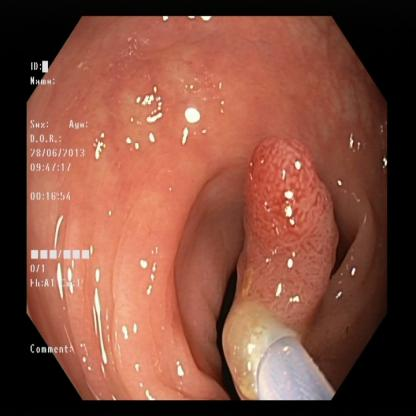Labels: (28, 56, 96, 356)
Polyps: (234, 142, 332, 319)
